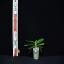leaf: (36, 38, 44, 45), (25, 41, 36, 45), (29, 47, 35, 53), (24, 43, 36, 46), (28, 46, 35, 49), (37, 43, 44, 46), (38, 47, 42, 52), (36, 46, 43, 48), (35, 40, 37, 44)
